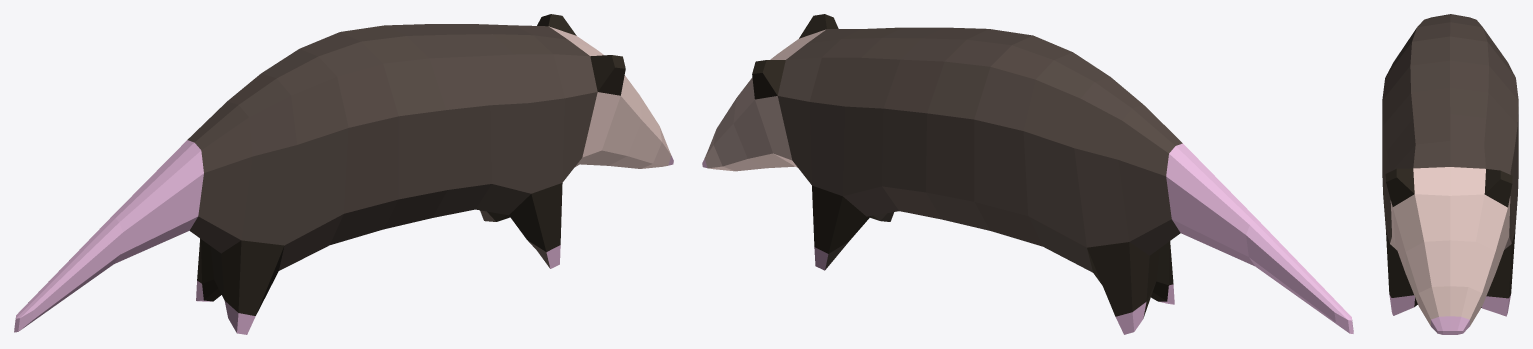
Rendered from possum_squish.glb.
The picture shows the model from 3 angles, left to right: view 1: azimuth 30°, elevation 25°; view 2: azimuth 150°, elevation 25°; view 3: azimuth 270°, elevation 25°; orthographic projection. The views are drawn at different scales.
Visible parts, largest first — view 1: Possum; view 2: Possum; view 3: Possum.
Boxes of the visible parts, x1,y1,x2,y2 form: Possum: (14, 14, 673, 334); Possum: (702, 14, 1353, 334); Possum: (1382, 14, 1518, 334).
Bounding box in the file's own units: 3.76 × 1.35 × 0.782.
